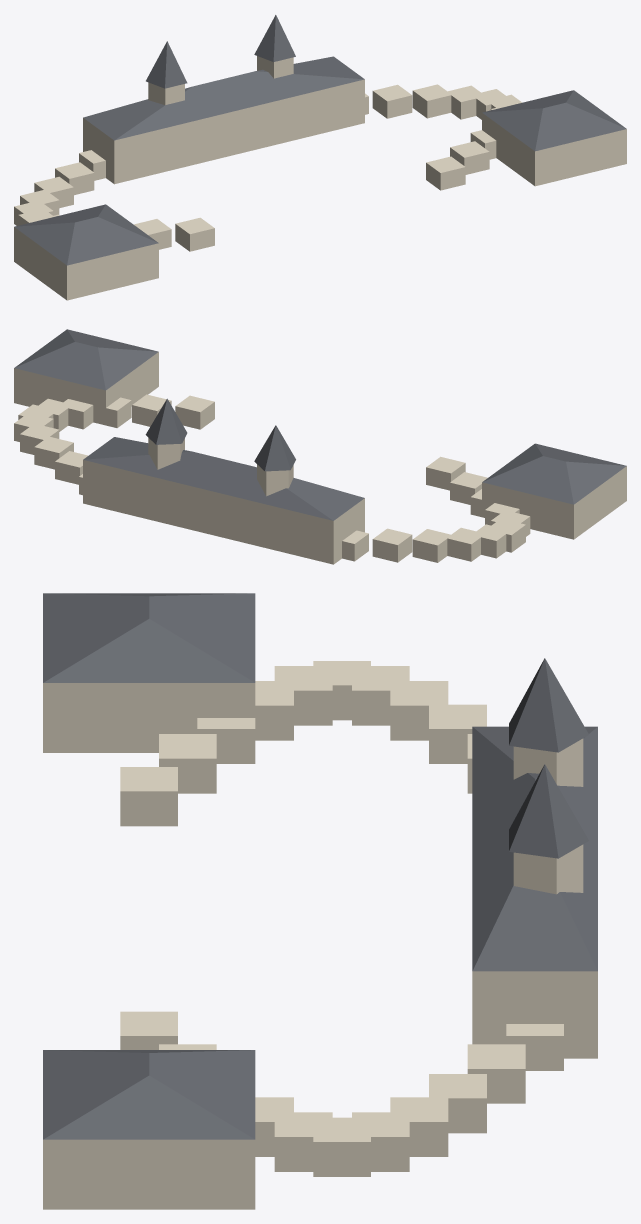
File: palace.glb
3 views of the same model, one above another, from view 1: azimuth 30°, elevation 25°; view 2: azimuth 150°, elevation 25°; view 3: azimuth 270°, elevation 25° (orthographic). The views are drawn at different scales.
Visible parts, largest first — view 1: corps, corps_roof, care-1, care1, care_roof-1, care_roof1, gal1_1, gal-1_10, gal1_10, gal1_2, Cone, Cone.001 (+12 smaller); view 2: corps, corps_roof, care_roof-1, care_roof1, care-1, care1, Cone, Cone.001, gal-1_1, gal1_10, gal-1_2, gal-1_3 (+19 smaller); view 3: corps_roof, care_roof-1, care_roof1, care1, care-1, corps, Cone.001, Cone, gal-1_10, gal1_5, gal-1_9, gal1_1 (+16 smaller).
Boxes of the visible parts, left/top/right/bottom form: corps: left=83, top=79, right=364, bottom=184; corps_roof: left=83, top=56, right=364, bottom=140; care-1: left=14, top=227, right=158, bottom=300; care1: left=482, top=113, right=626, bottom=186; care_roof-1: left=14, top=204, right=158, bottom=265; care_roof1: left=482, top=90, right=626, bottom=151; gal1_1: left=372, top=84, right=412, bottom=118; gal-1_10: left=175, top=217, right=214, bottom=251; gal1_10: left=426, top=156, right=465, bottom=190; gal1_2: left=412, top=84, right=451, bottom=118; Cone: left=146, top=41, right=187, bottom=88; Cone.001: left=254, top=15, right=295, bottom=61; corps: left=83, top=460, right=364, bottom=564; corps_roof: left=83, top=437, right=364, bottom=520; care_roof-1: left=482, top=443, right=626, bottom=504; care_roof1: left=14, top=329, right=158, bottom=390; care-1: left=482, top=466, right=626, bottom=539; care1: left=14, top=352, right=158, bottom=424; Cone: left=254, top=425, right=295, bottom=471; Cone.001: left=145, top=398, right=187, bottom=444; gal-1_1: left=372, top=528, right=412, bottom=562; gal1_10: left=175, top=395, right=214, bottom=429; gal-1_2: left=412, top=529, right=450, bottom=562; gal-1_3: left=447, top=527, right=484, bottom=561; corps_roof: left=472, top=726, right=597, bottom=971; care_roof-1: left=43, top=593, right=255, bottom=682; care_roof1: left=43, top=1050, right=255, bottom=1139; care1: left=43, top=1139, right=255, bottom=1209; care-1: left=43, top=683, right=255, bottom=752; corps: left=472, top=971, right=597, bottom=1058; Cone.001: left=509, top=764, right=588, bottom=858; Cone: left=509, top=658, right=588, bottom=752; gal-1_10: left=120, top=767, right=177, bottom=826; gal1_5: left=313, top=1117, right=370, bottom=1176; gal-1_9: left=159, top=734, right=216, bottom=793; gal1_1: left=467, top=1044, right=525, bottom=1103.
Size of the model in its own units: 268 by 51.6 by 115.
